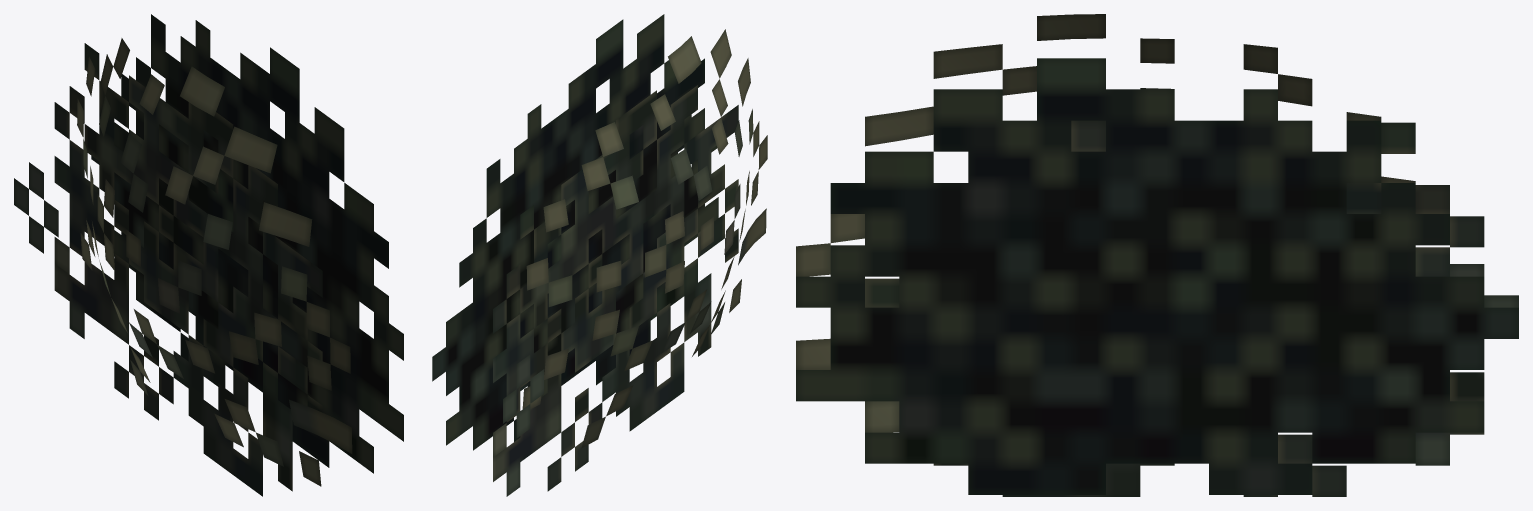
File: EnvFldMD_Grass_B_Mountain_MB.FBX
The picture shows the model from 3 angles, left to right: view 1: azimuth 30°, elevation 25°; view 2: azimuth 150°, elevation 25°; view 3: azimuth 270°, elevation 25°; orthographic projection. The views are drawn at different scales.
Visible parts, largest first — view 1: EnvFldMD_Grass_B_Mountain_MB; view 2: EnvFldMD_Grass_B_Mountain_MB; view 3: EnvFldMD_Grass_B_Mountain_MB.
Part boxes in pixels (left/top/right/bottom): EnvFldMD_Grass_B_Mountain_MB: left=14, top=14, right=403, bottom=496; EnvFldMD_Grass_B_Mountain_MB: left=432, top=14, right=767, bottom=496; EnvFldMD_Grass_B_Mountain_MB: left=796, top=14, right=1518, bottom=496.
Size of the model in its own units: 25 by 75 by 105.
Materials: 1 (1 with a texture image).
